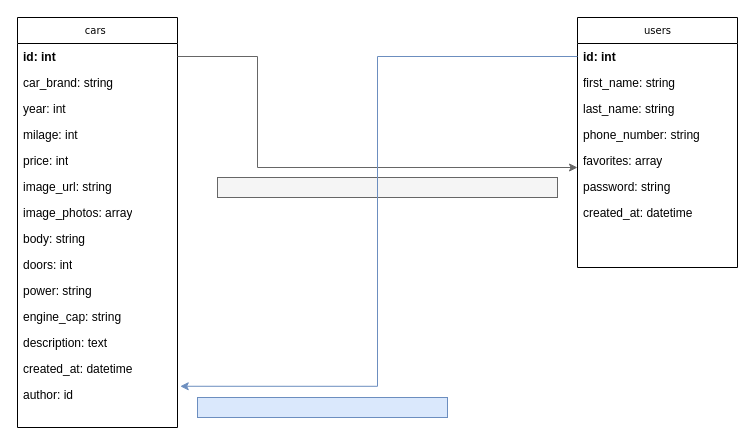
Some shapes in this 755 by 448 pixel diagram are drawn without their labels. The shapes that lost their labels are listed below. From the top down, each one's centre as x and y in pixels, then its label:
[387,187]: V poli favourites sa nachádzajú ID obľubených inzerátov
[322,407]: Referencia na užívateľa, ktorý vytvoril inzerát
